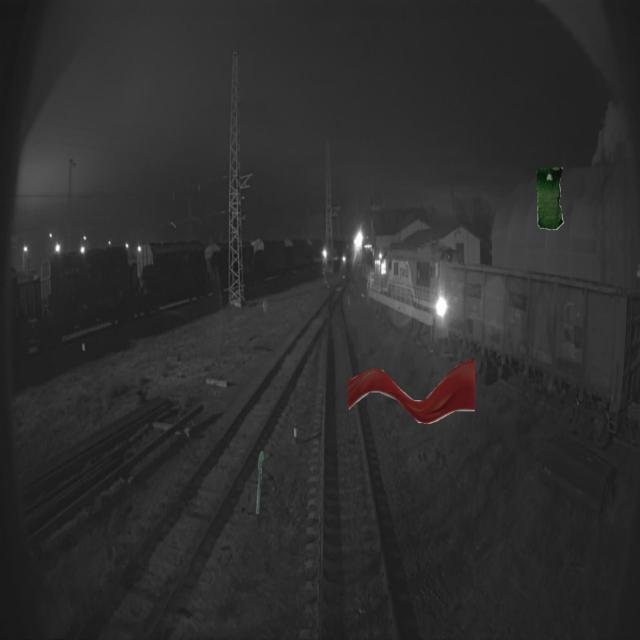floating object: (348, 359, 475, 424), (256, 450, 263, 514)
plastic bag: (536, 166, 564, 230)
